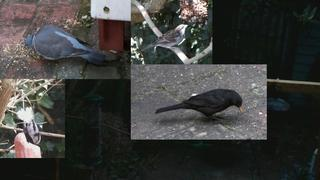blackbird: (155, 88, 243, 123)
long tailed tit: (27, 103, 41, 145)
sparrow: (141, 24, 188, 52)
wood pigeon: (24, 24, 107, 66)
